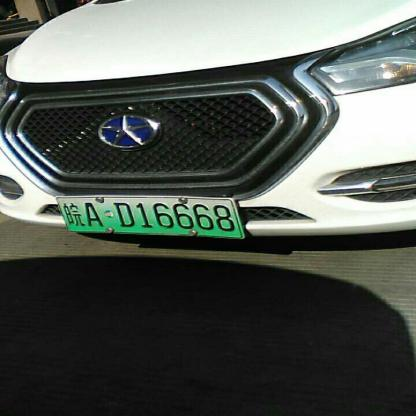lp: (57, 197, 68, 238)
